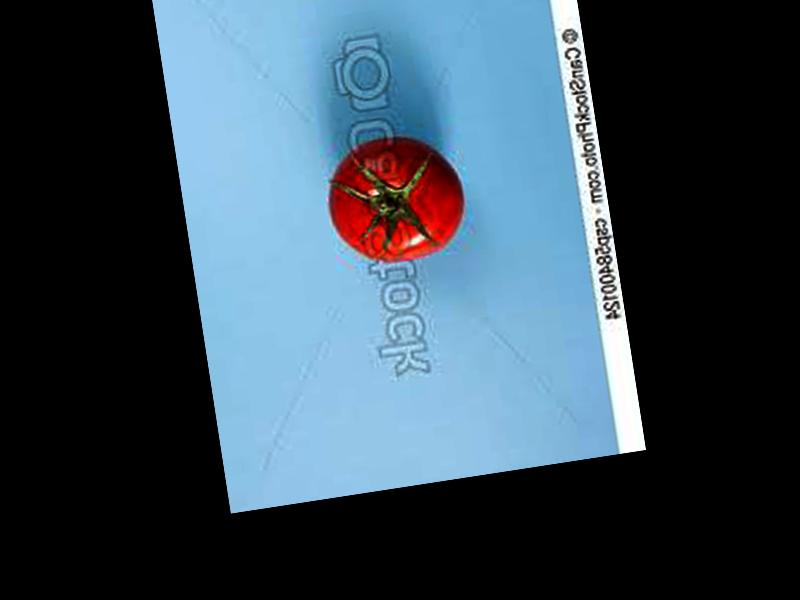Tomato: (321, 130, 473, 269)
